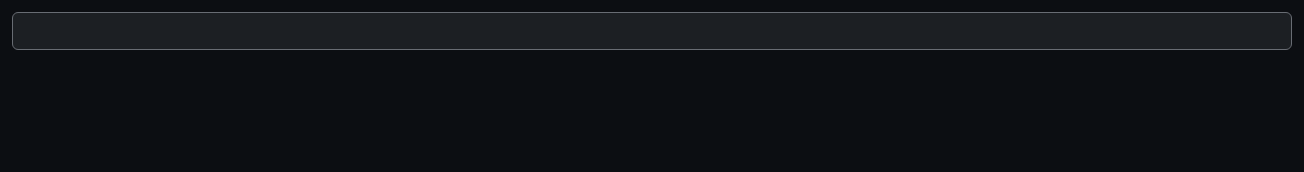
it: Combobox (saisie libre) › la valeur suit la frappe sans change ; change à la sortie ; option « Nouvelle… »
Type "Pompiers" into the dropdown. click: (652, 31)
box: [12, 12, 1292, 50]
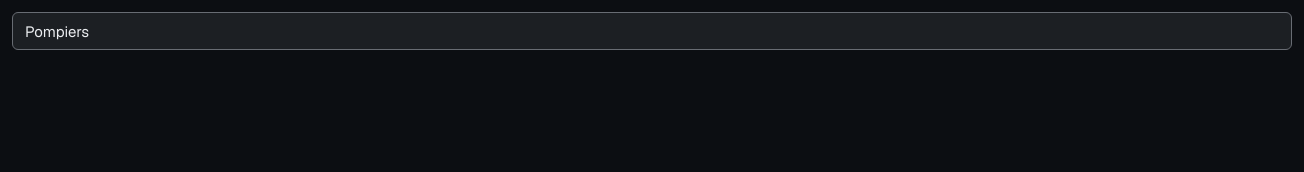
Replace the text in the dropdown with "pol". click: (652, 31)
box: [12, 12, 1292, 50]
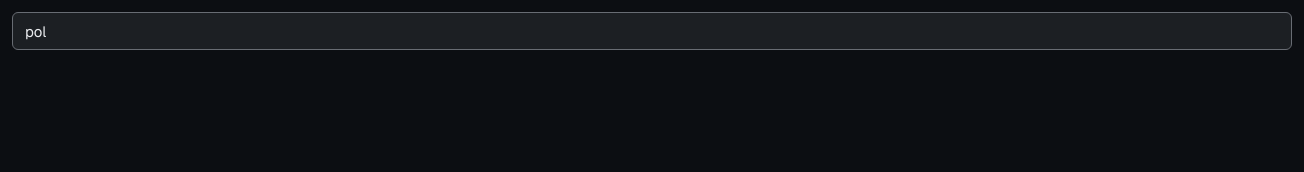
Press Enter in the dropdown, box [12, 12, 1292, 50]
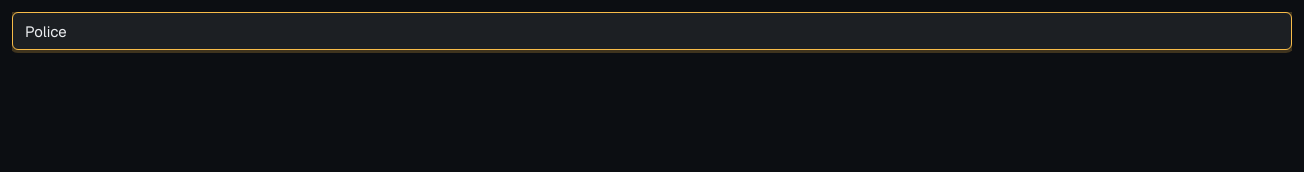
expect the dropdown holds "Police": met, box [12, 12, 1292, 50]
